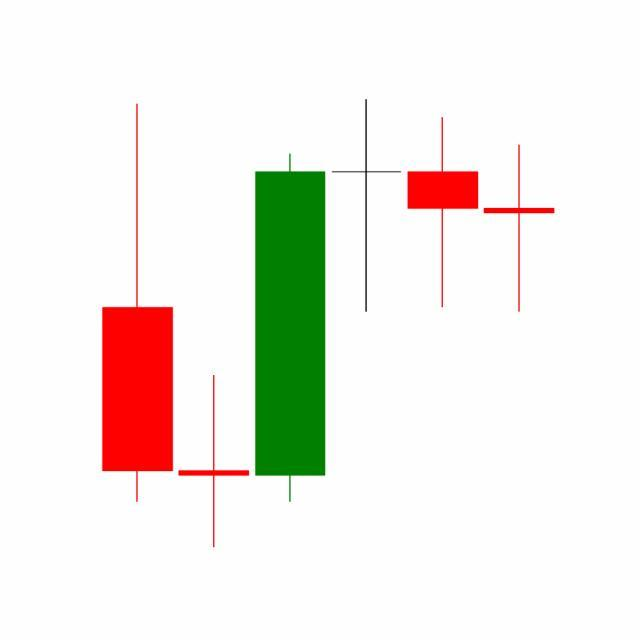Spinning Top: (404, 115, 482, 310)
